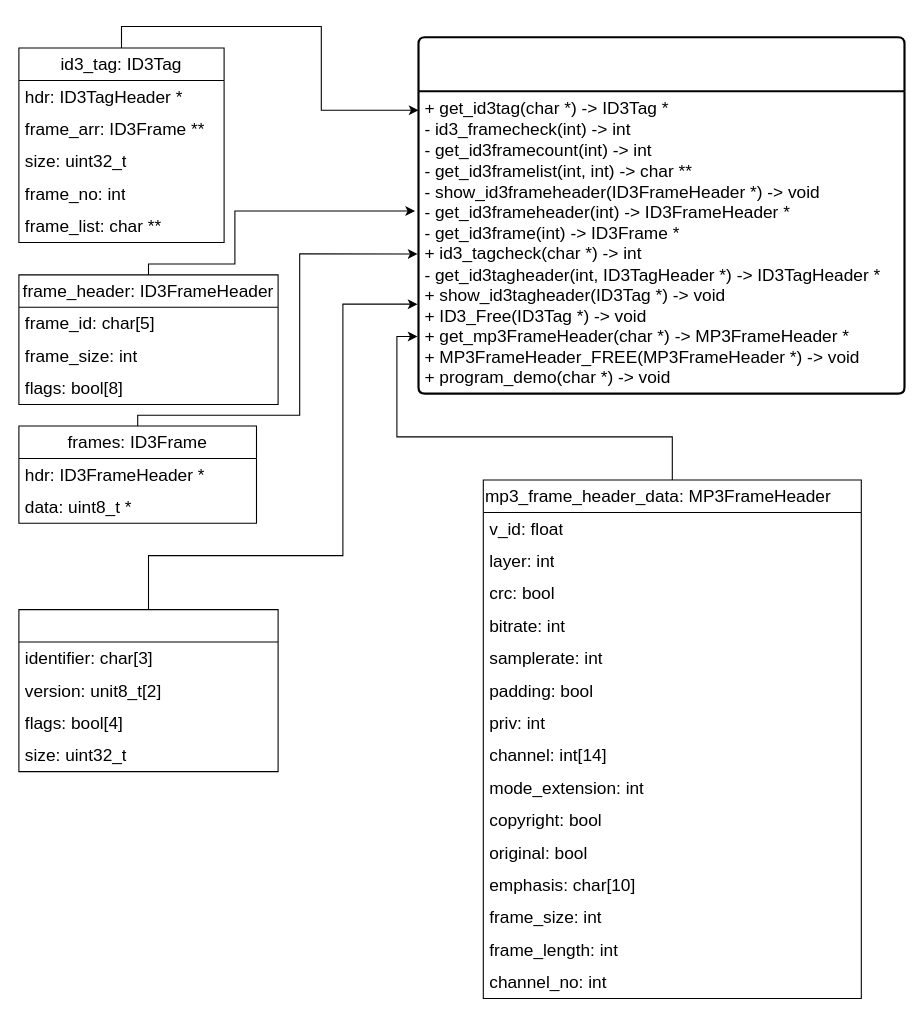
Image size: 924x1017. Some labels were removed from this diagram. The shapes that lost their labels are listed below. From the top down, each one's box as (x1, y1, x2, y2) in pixels, then its label:
(417, 36, 905, 394): MP3 Functions
(18, 609, 278, 772): tag_header: ID3TagHeader
